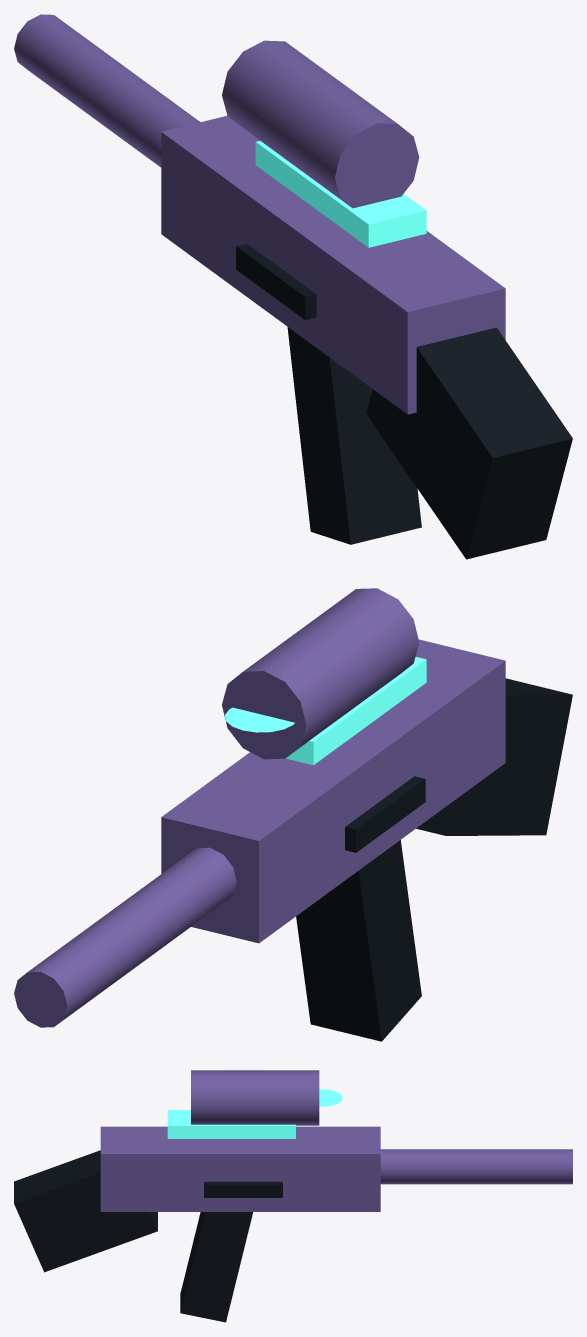
File: lancer-1.glb
3 renders of one model, top to bottom at view 1: azimuth 30°, elevation 25°; view 2: azimuth 150°, elevation 25°; view 3: azimuth 270°, elevation 25°, orthographic. The views are drawn at different scales.
Visible parts, largest first — view 1: lancer-1; view 2: lancer-1; view 3: lancer-1.
Part boxes in pixels (bbox=[...]): lancer-1: bbox=[14, 14, 572, 559]; lancer-1: bbox=[14, 588, 572, 1041]; lancer-1: bbox=[14, 1070, 572, 1322].
Size of the model in its own units: 0.27 by 0.9072 by 1.92.
